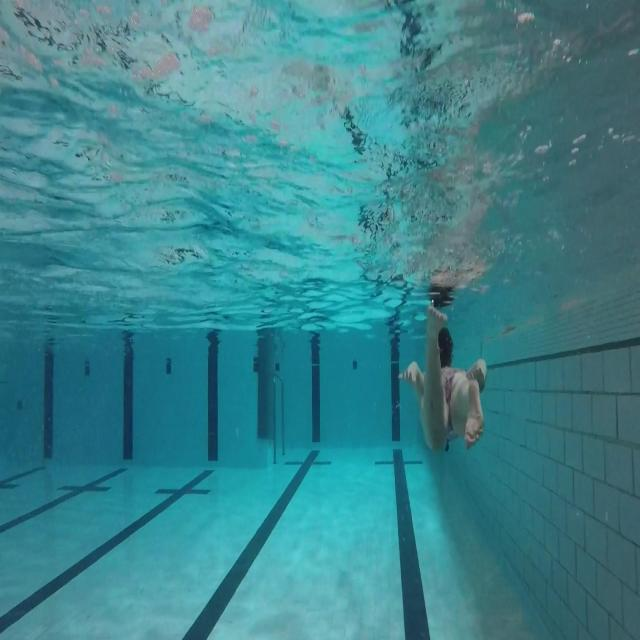human: (397, 300, 487, 453)
